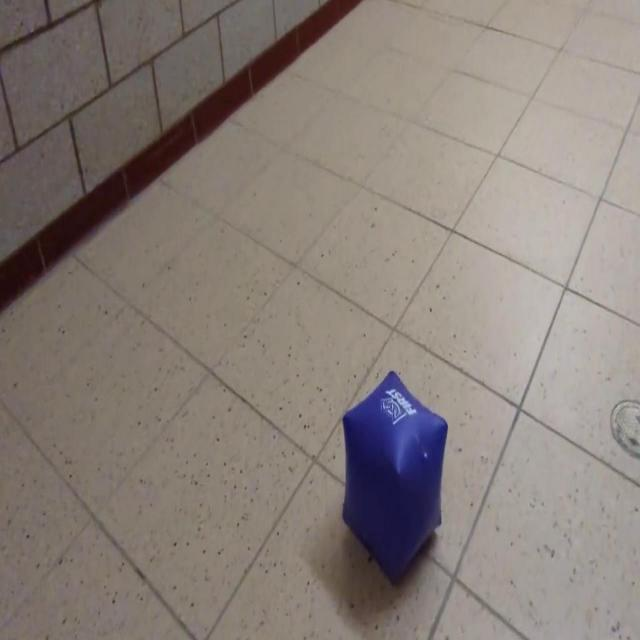frc_cube: (335, 362, 447, 577)
